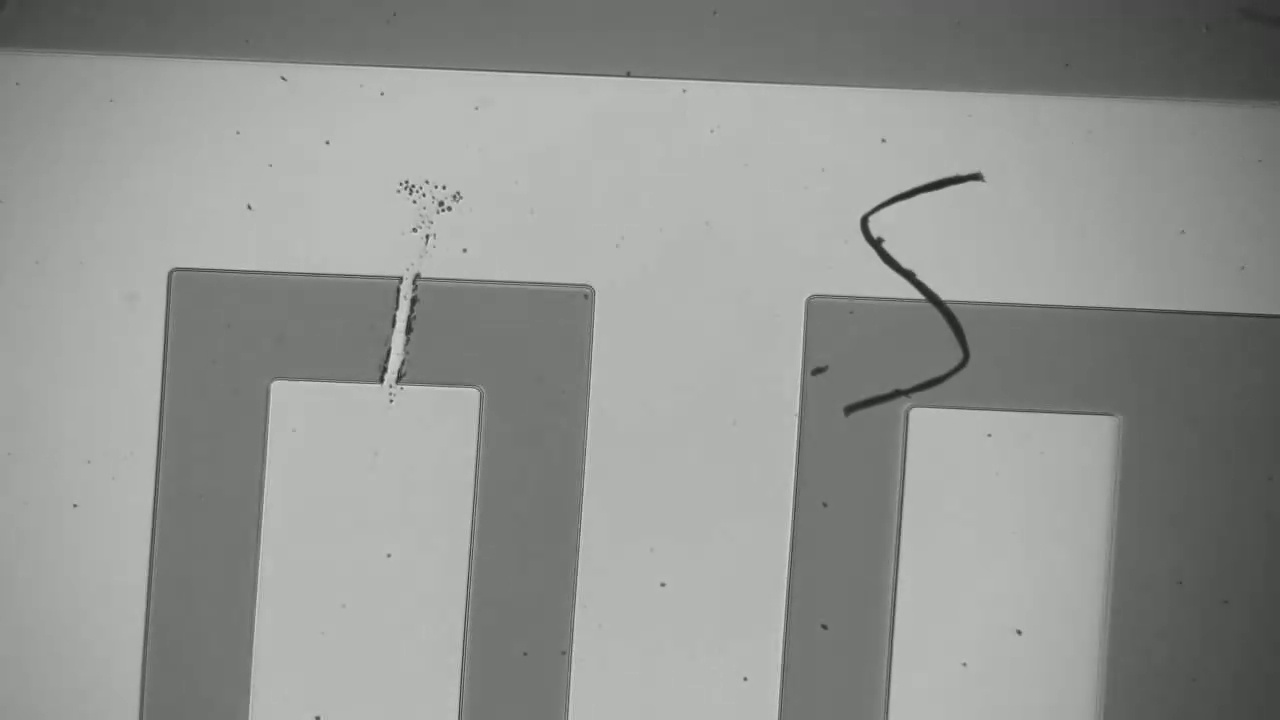Short_circuit: (355, 262, 440, 405)
